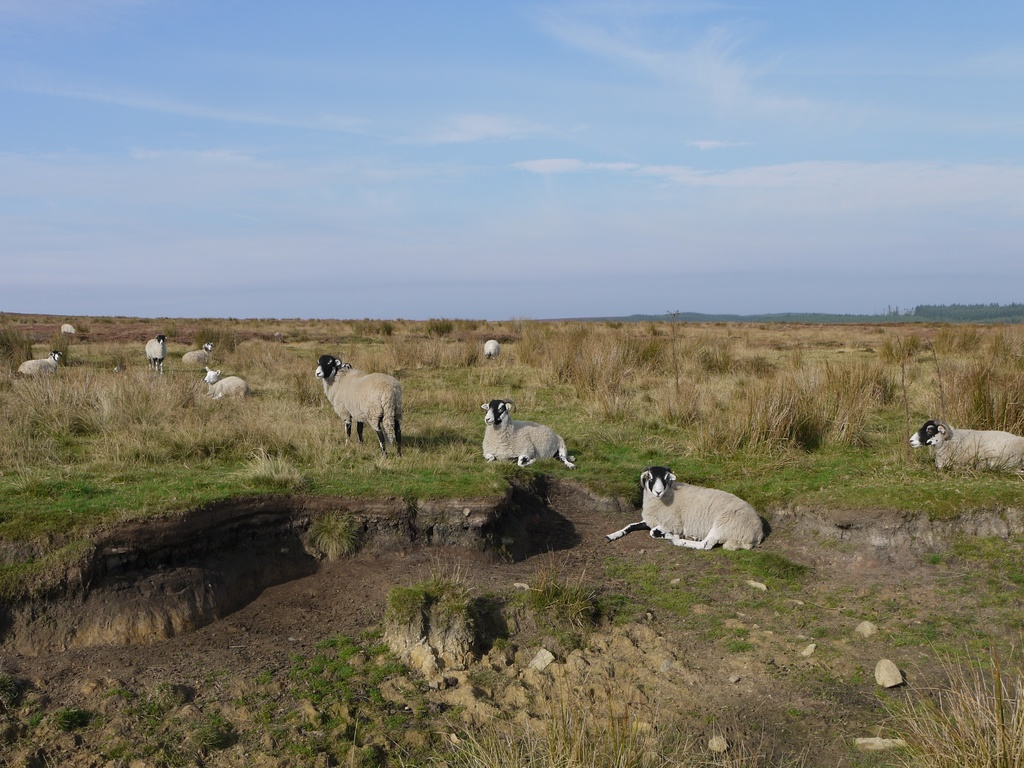sheep: (606, 466, 767, 543), (479, 397, 576, 470)
